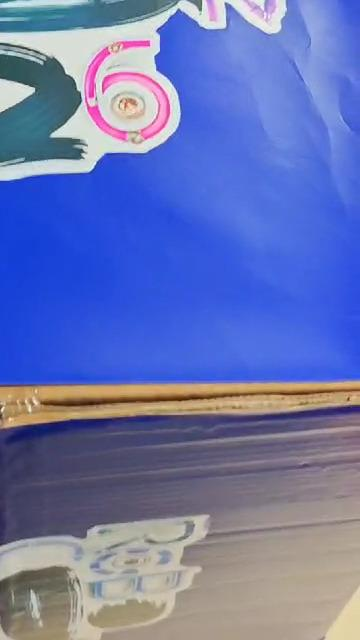B_R1: (0, 0, 319, 187)
